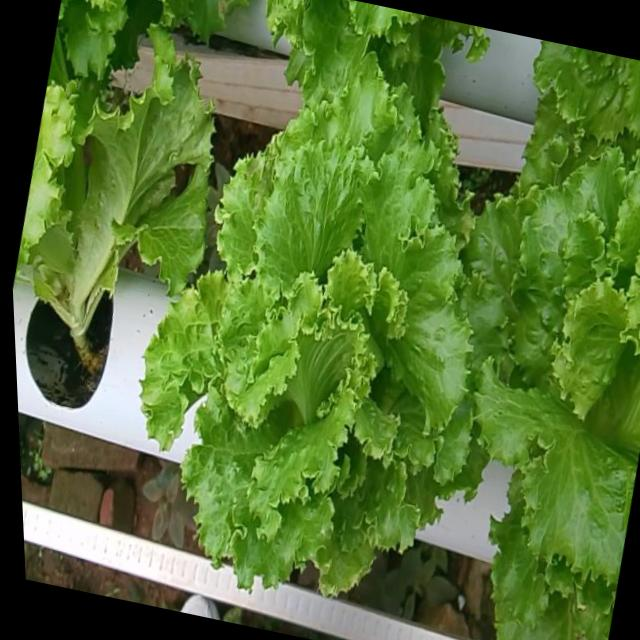Mature: (138, 84, 474, 605), (462, 157, 640, 604)
